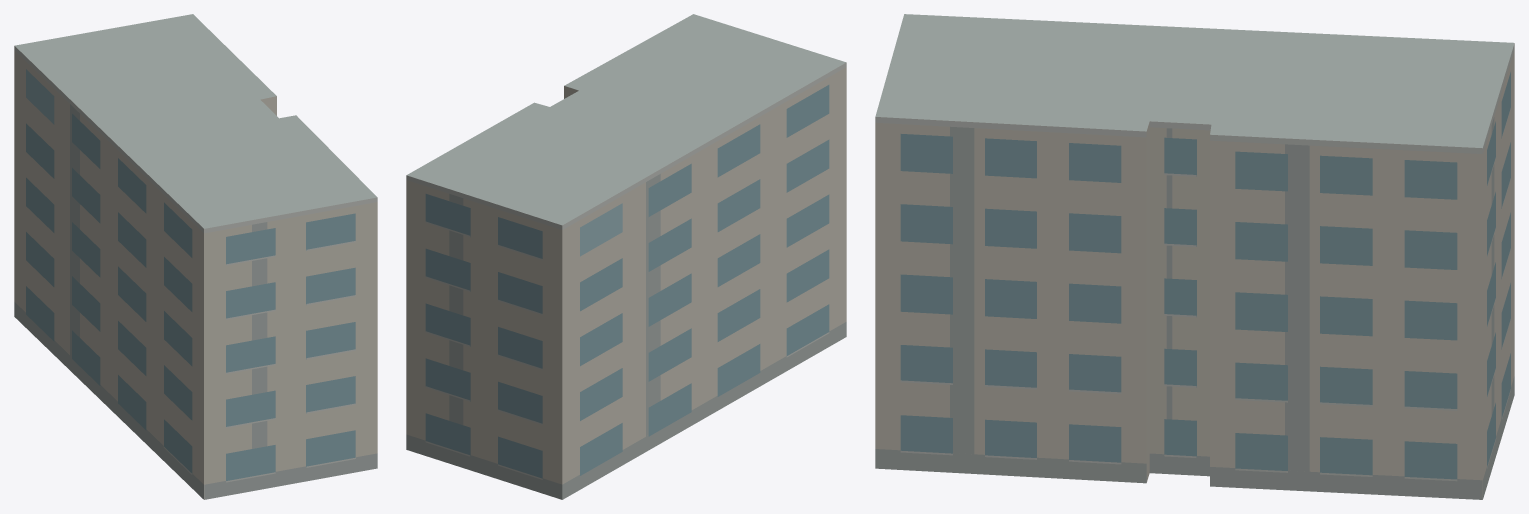
File: survey-upis-32567006.glb
3 views of the same model, side by side, from view 1: azimuth 30°, elevation 25°; view 2: azimuth 150°, elevation 25°; view 3: azimuth 270°, elevation 25° (orthographic). The views are drawn at different scales.
Parts seen in each view (by area): view 1: survey-upis-32567006.tmp; view 2: survey-upis-32567006.tmp; view 3: survey-upis-32567006.tmp.
Part boxes in pixels (x1,y1,x2,y2): survey-upis-32567006.tmp: (14,14,377,499); survey-upis-32567006.tmp: (406,14,846,499); survey-upis-32567006.tmp: (875,14,1514,499).
Size of the model in its own units: 11.87 by 14.5 by 23.9.
